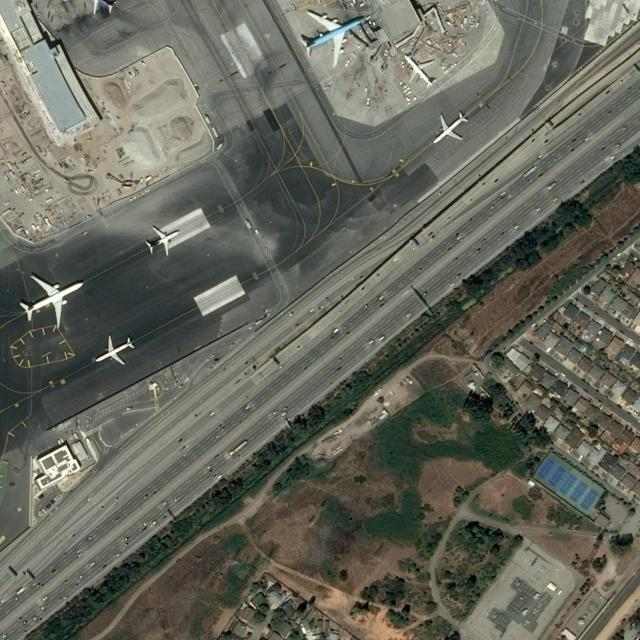Aircraft: (300, 9, 369, 67), (21, 273, 85, 327), (433, 110, 470, 144), (97, 334, 135, 366), (405, 52, 436, 89), (146, 226, 180, 256), (85, 0, 119, 16)
